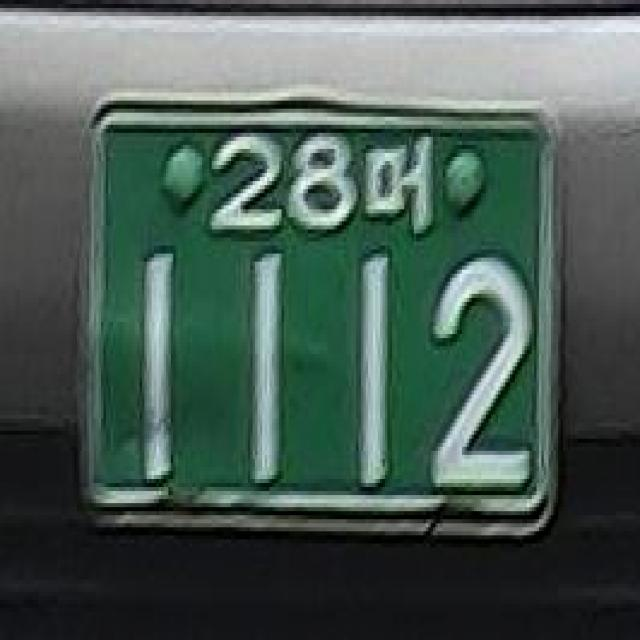illegal_plate: (68, 79, 579, 578)
